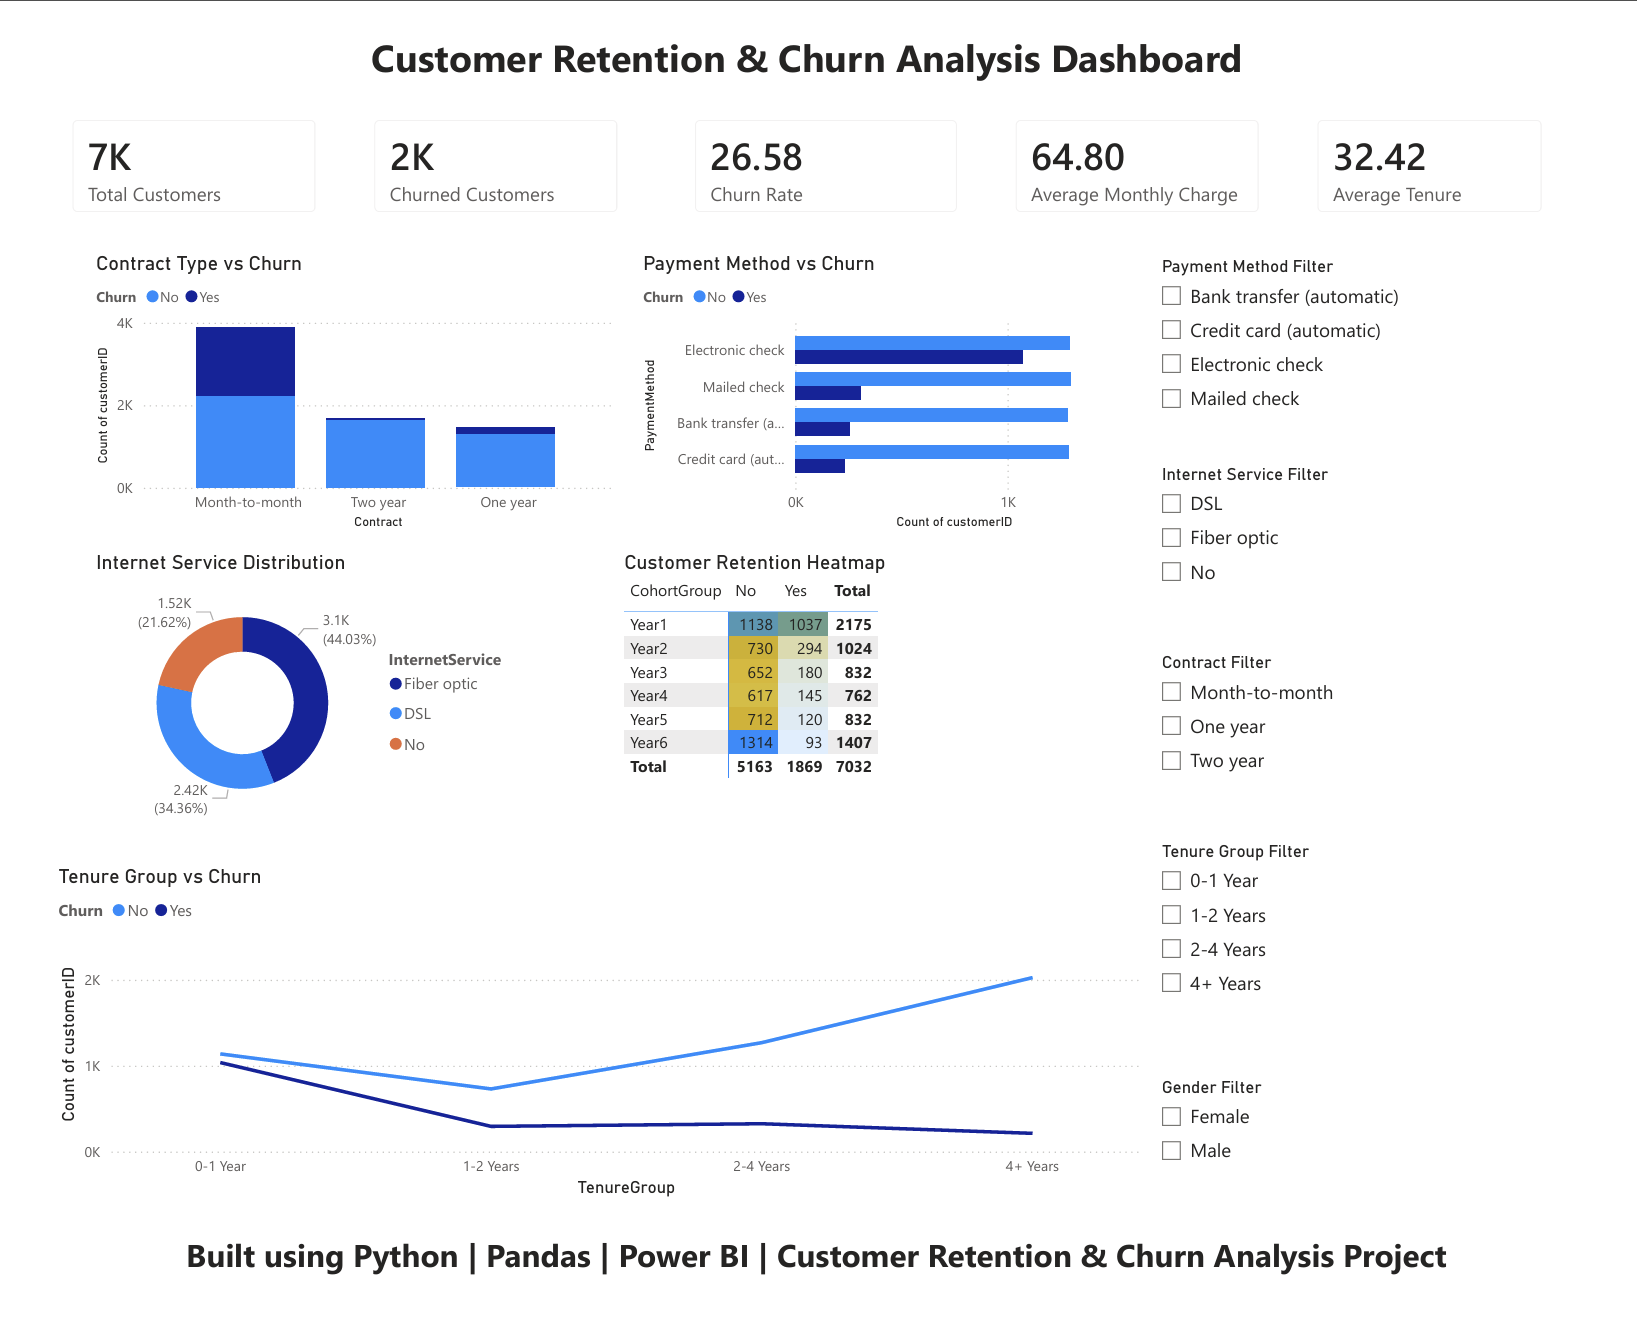

This screenshot's page, from the dashboard's own definition file:
{"tool":"powerbi","page":{"name":"Page 1","canvas":[1296,1100],"ordinal":0},"visuals":[{"type":"cardVisual","fields":{"Data":["churn_cohort.Total Customers"]},"box":[0,64,240,112],"z":0},{"type":"cardVisual","fields":{"Data":["churn_cohort.Churned Customers"]},"box":[256,64,240,112],"z":1000},{"type":"cardVisual","fields":{"Data":["churn_cohort.Churn Rate"]},"box":[528,64,256,112],"z":2000},{"type":"cardVisual","fields":{"Data":["churn_cohort.Average Monthly Charge"]},"box":[800,64,240,112],"z":3000},{"type":"cardVisual","fields":{"Data":["churn_cohort.Average Tenure"]},"box":[1056,64,224,112],"z":4000},{"type":"columnChart","title":"Contract Type vs Churn","fields":{"Category":["churn_cohort.Contract"],"Series":["churn_cohort.Churn"],"Y":["CountNonNull(churn_cohort.customerID)"]},"box":[32,192,448,240],"z":5000},{"type":"clusteredBarChart","title":"Payment Method vs Churn","fields":{"Category":["churn_cohort.PaymentMethod"],"Series":["churn_cohort.Churn"],"Y":["CountNonNull(churn_cohort.customerID)"]},"box":[496,192,416,240],"z":6000},{"type":"lineChart","title":"Tenure Group vs Churn","fields":{"Category":["churn_cohort.TenureGroup"],"Y":["Count(churn_cohort.customerID)"],"Series":["churn_cohort.Churn"]},"box":[0,712,928,288],"z":7000},{"type":"textbox","box":[0,0,1280,64],"z":8000},{"type":"donutChart","title":"Internet Service Distribution","fields":{"Category":["churn_cohort.InternetService"],"Y":["CountNonNull(churn_cohort.customerID)"]},"box":[32,446,368,240],"z":9000},{"type":"pivotTable","title":"Customer Retention Heatmap","fields":{"Rows":["churn_cohort.CohortGroup"],"Columns":["churn_cohort.Churn"],"Values":["CountNonNull(churn_cohort.customerID)"]},"box":[480,446,368,240],"z":10000},{"type":"slicer","fields":{"Values":["churn_cohort.gender"]},"box":[928,888,192,112],"z":10001},{"type":"slicer","fields":{"Values":["churn_cohort.Contract"]},"box":[928,528,192,144],"z":10002},{"type":"slicer","fields":{"Values":["churn_cohort.InternetService"]},"box":[928,368,208,144],"z":10003},{"type":"slicer","fields":{"Values":["churn_cohort.PaymentMethod"]},"box":[928,192,368,144],"z":10004},{"type":"slicer","fields":{"Values":["churn_cohort.TenureGroup"]},"box":[928,688,224,144],"z":10005},{"type":"textbox","box":[0,1020,1296,80],"z":10006}]}

Visuals, with their boxes on the page's 1296x1100 design canvas (x1, y1, x2, y2). These are canvas units, not pixel positions in the 1637x1318 screenshot, which may show the page scaled, cropped or inside an application window:
cardVisual - churn_cohort.Total Customers: [0, 64, 240, 176]
cardVisual - churn_cohort.Churned Customers: [256, 64, 496, 176]
cardVisual - churn_cohort.Churn Rate: [528, 64, 784, 176]
cardVisual - churn_cohort.Average Monthly Charge: [800, 64, 1040, 176]
cardVisual - churn_cohort.Average Tenure: [1056, 64, 1280, 176]
"Contract Type vs Churn" columnChart: [32, 192, 480, 432]
"Payment Method vs Churn" clusteredBarChart: [496, 192, 912, 432]
"Tenure Group vs Churn" lineChart: [0, 712, 928, 1000]
textbox: [0, 0, 1280, 64]
"Internet Service Distribution" donutChart: [32, 446, 400, 686]
"Customer Retention Heatmap" pivotTable: [480, 446, 848, 686]
slicer - churn_cohort.gender: [928, 888, 1120, 1000]
slicer - churn_cohort.Contract: [928, 528, 1120, 672]
slicer - churn_cohort.InternetService: [928, 368, 1136, 512]
slicer - churn_cohort.PaymentMethod: [928, 192, 1296, 336]
slicer - churn_cohort.TenureGroup: [928, 688, 1152, 832]
textbox: [0, 1020, 1296, 1100]
